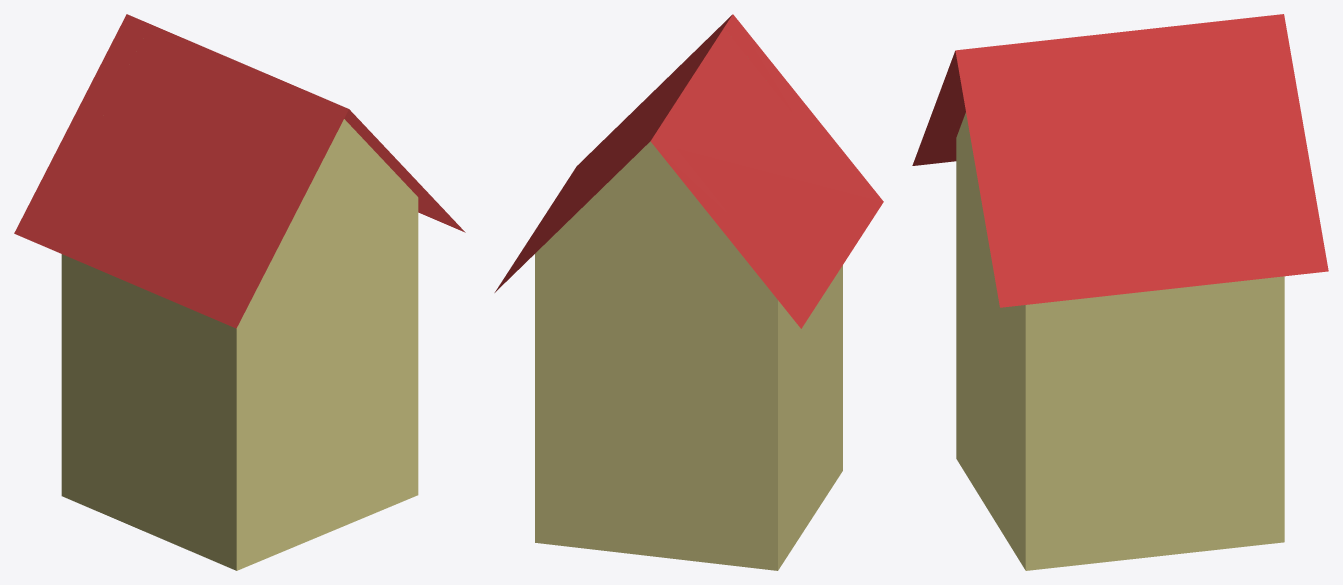
3 renders of one model, left to right at view 1: azimuth 30°, elevation 25°; view 2: azimuth 150°, elevation 25°; view 3: azimuth 270°, elevation 25°, orthographic. The views are drawn at different scales.
Parts seen in each view (by area): view 1: group_5, group_3, group_4; view 2: group_5, group_3, group_4; view 3: group_5, group_3, group_4.
Boxes of the visible parts, x1,y1,x2,y2 form: group_5: (61, 119, 418, 570); group_3: (14, 14, 348, 328); group_4: (99, 14, 465, 232); group_5: (535, 141, 842, 570); group_3: (495, 15, 883, 328); group_4: (495, 14, 791, 292); group_5: (956, 112, 1284, 570); group_3: (955, 14, 1328, 307); group_4: (912, 15, 1328, 301).
Size of the model in its own units: 11.66 by 11.52 by 14.26.
